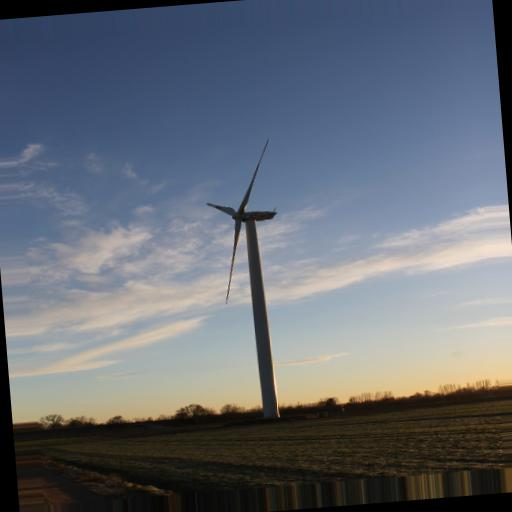wind turbine: (207, 137, 288, 427)
